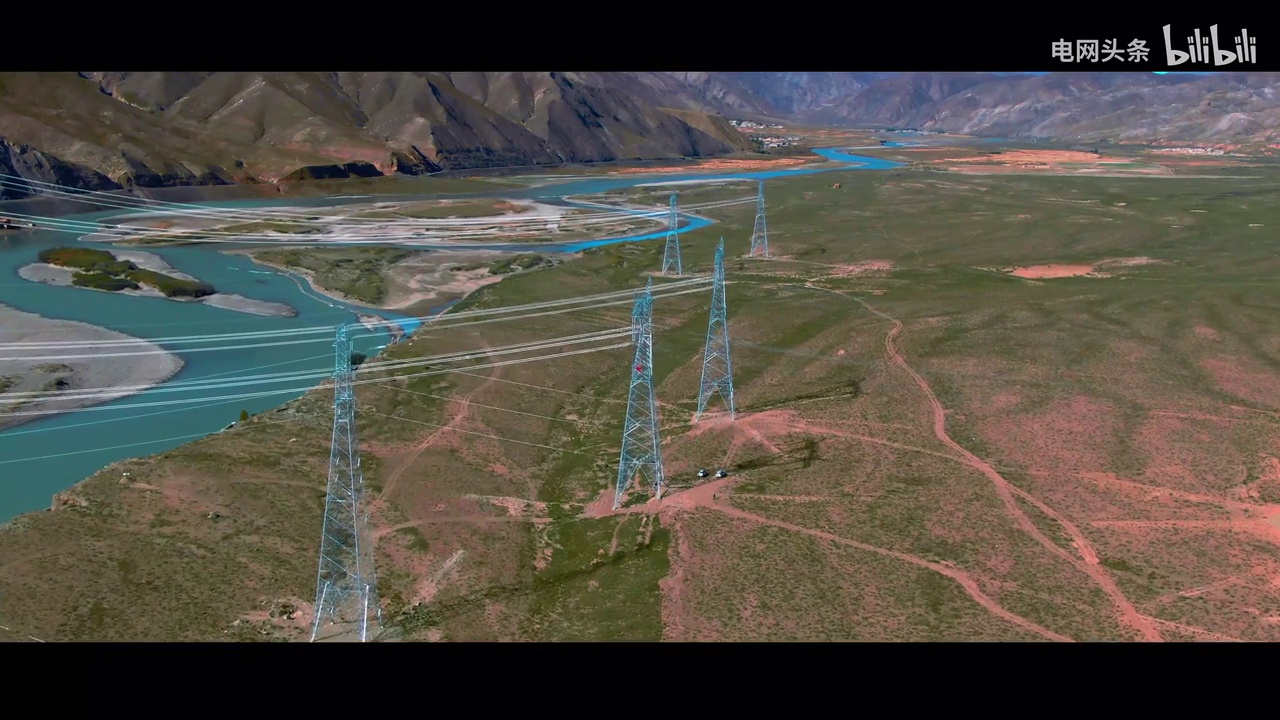tower_body: (300, 324, 403, 647), (608, 274, 673, 516), (693, 238, 754, 424)
tower_foot: (305, 577, 386, 637), (616, 448, 669, 506), (695, 385, 743, 420)
